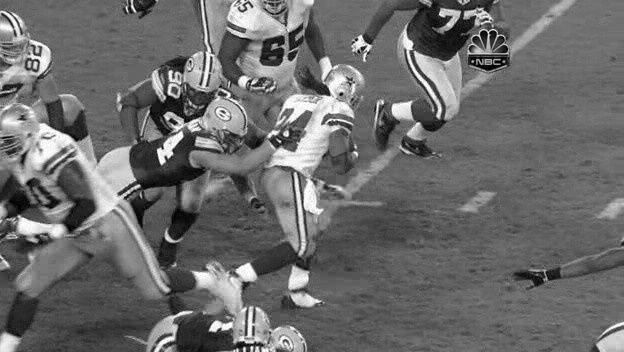person: (327, 65, 363, 111), (326, 65, 362, 111), (328, 65, 364, 111), (327, 64, 363, 110), (327, 66, 363, 112)
target_negative: (324, 101, 607, 276), (183, 234, 437, 337), (303, 177, 500, 307), (123, 233, 542, 285), (387, 254, 478, 308), (307, 335, 557, 339)
